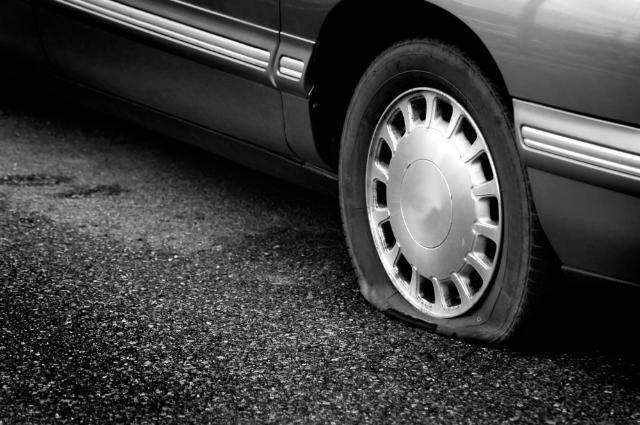tire flat: (338, 37, 549, 342)
